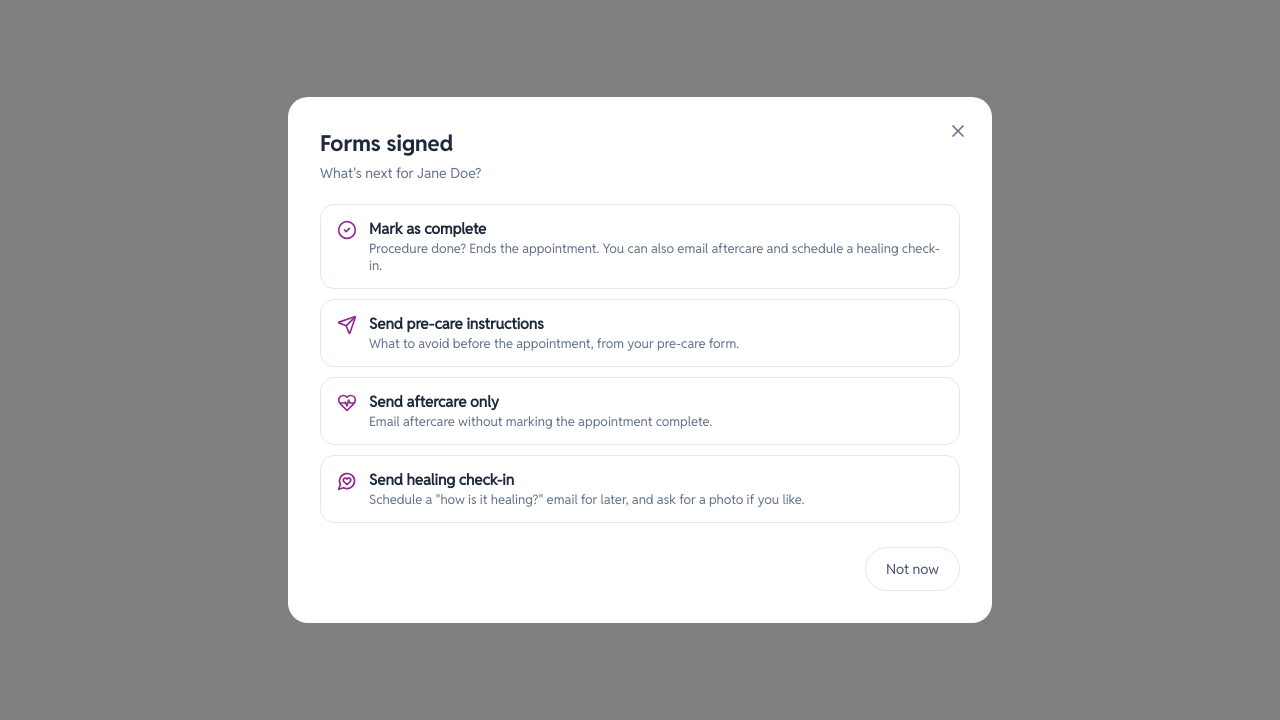
AppointmentNextStepModal (after signing) › offers a healing check-in among the next steps
The image size is (1280, 720).
Click the button "Send healing check-in" at (640,489), box [320, 455, 960, 523]
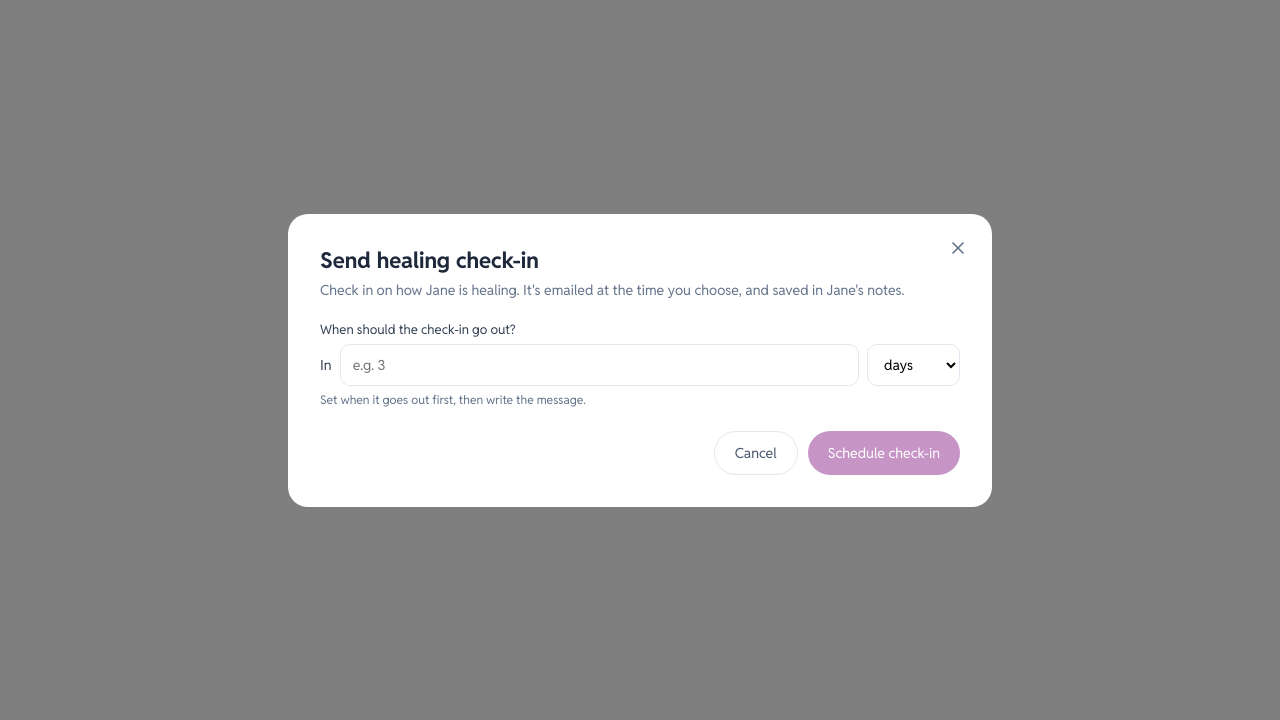
Check: the dialog "Send healing check-in" is shown, box [288, 214, 992, 506]
closing goes back to the choices
Click the button named "Close" at (958,250), box [940, 230, 976, 270]
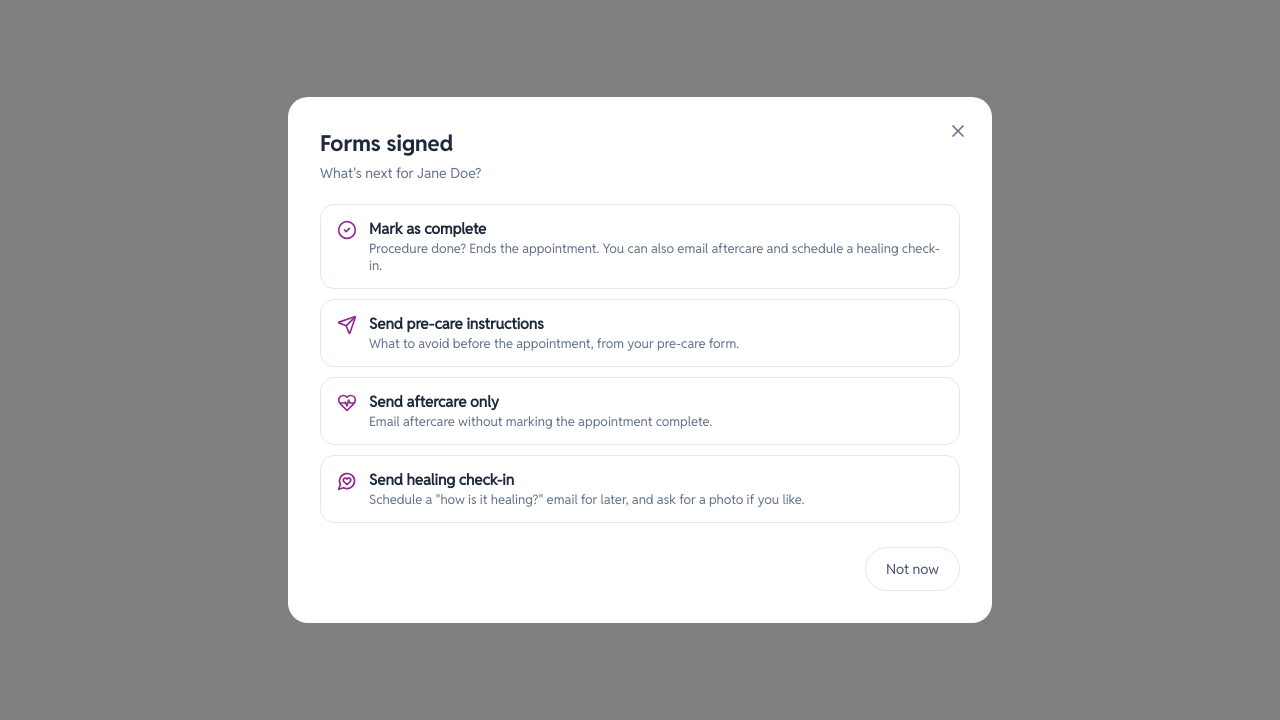
Check: the dialog "Forms signed" is shown, box [288, 97, 992, 623]
